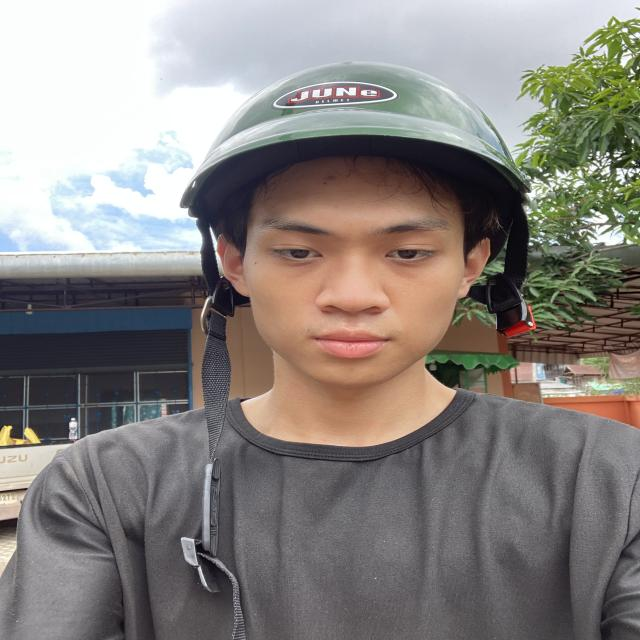illegal_helmet: (170, 53, 547, 640)
